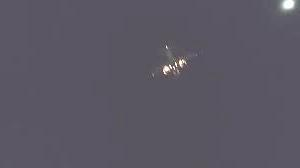Plane: (134, 34, 215, 88)
